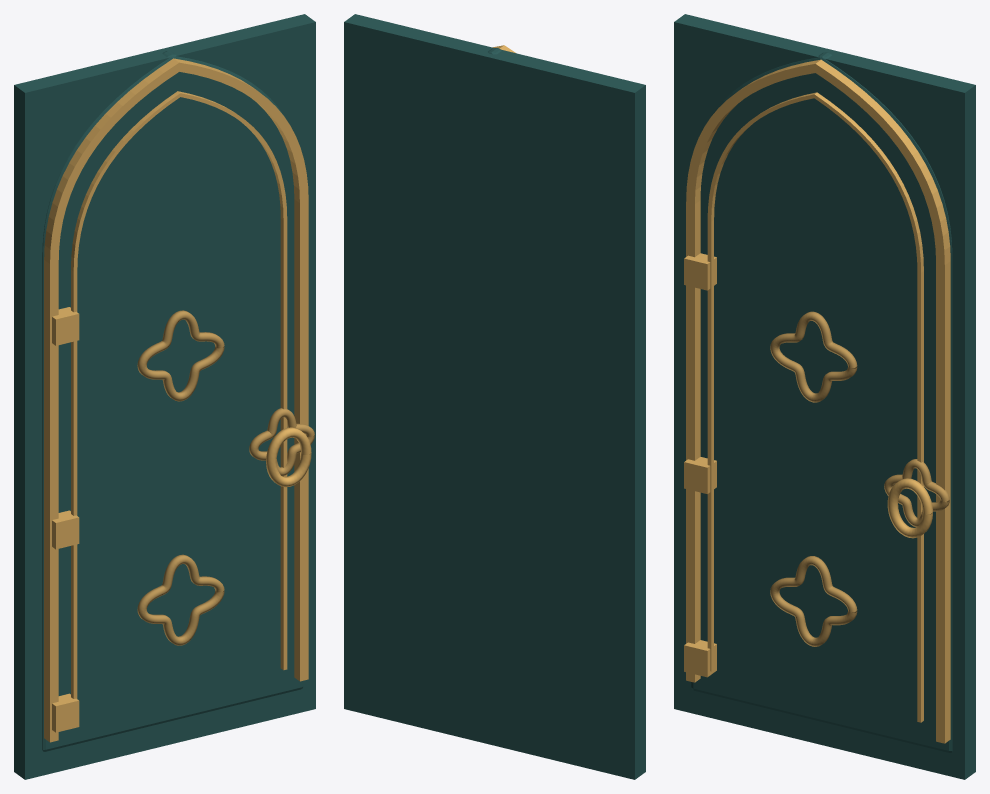
Rendered from door-west.glb.
3 views of the same model, side by side, from view 1: azimuth 30°, elevation 25°; view 2: azimuth 150°, elevation 25°; view 3: azimuth 330°, elevation 25° (orthographic).
Parts seen in each view (by area): view 1: NC.Export.DoorWest.RoyalDoor, NC.Export.DoorWest.PolishedBrass, NC.Export.DoorWest.RoyalGold; view 2: NC.Export.DoorWest.RoyalDoor; view 3: NC.Export.DoorWest.RoyalDoor, NC.Export.DoorWest.PolishedBrass, NC.Export.DoorWest.RoyalGold.
Part boxes in pixels (left/top/right/bottom): NC.Export.DoorWest.RoyalDoor: left=14, top=14, right=315, bottom=779; NC.Export.DoorWest.PolishedBrass: left=44, top=58, right=311, bottom=742; NC.Export.DoorWest.RoyalGold: left=137, top=310, right=314, bottom=645; NC.Export.DoorWest.RoyalDoor: left=344, top=14, right=645, bottom=779; NC.Export.DoorWest.RoyalDoor: left=674, top=14, right=975, bottom=779; NC.Export.DoorWest.PolishedBrass: left=684, top=59, right=950, bottom=743; NC.Export.DoorWest.RoyalGold: left=770, top=311, right=949, bottom=646.
Size of the model in its own units: 2.99 by 6.76 by 0.487.
